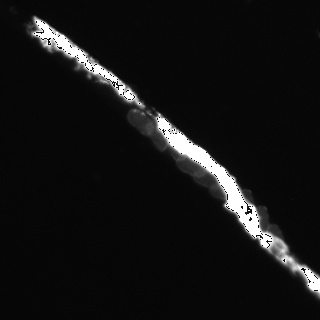embryo: (177, 154, 207, 178), (127, 109, 154, 135), (147, 122, 169, 152), (236, 189, 256, 221), (194, 169, 221, 190), (252, 206, 269, 237), (267, 226, 284, 254), (210, 185, 237, 202), (170, 145, 187, 161)
